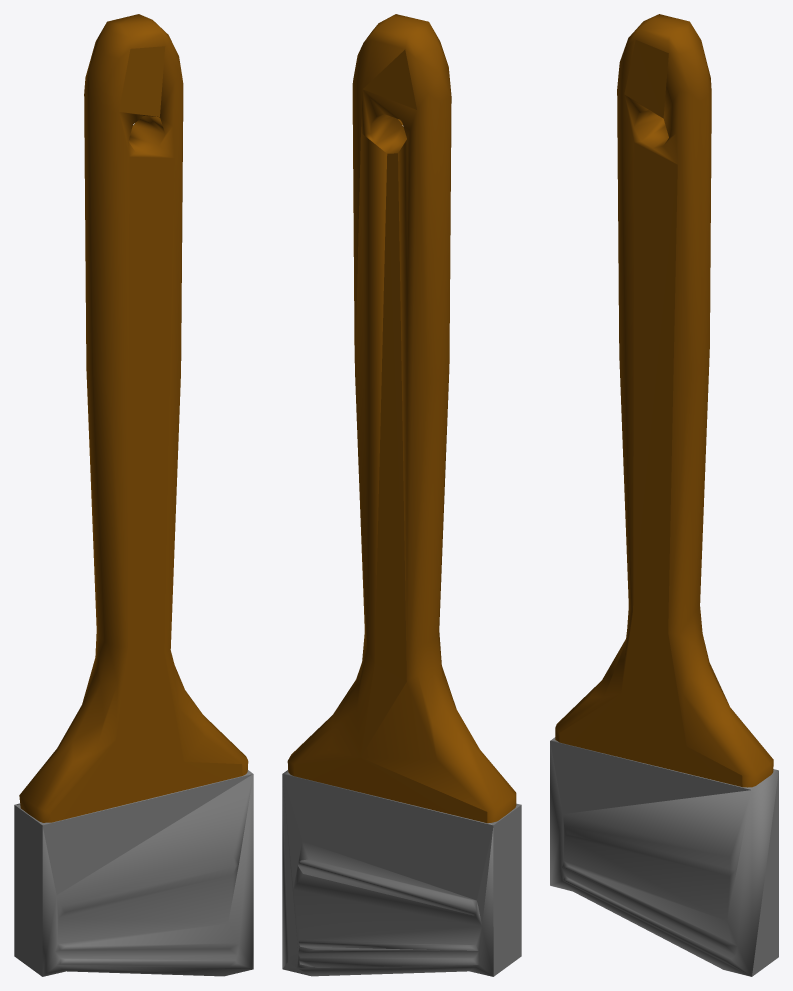
Rendered from COL_Obj_3_Brush_Coll.dae.
3 views of the same model, side by side, from view 1: azimuth 30°, elevation 25°; view 2: azimuth 150°, elevation 25°; view 3: azimuth 330°, elevation 25° (orthographic). The views are drawn at different scales.
Parts seen in each view (by area): view 1: COL_Obj_3_Brush_Coll; view 2: COL_Obj_3_Brush_Coll; view 3: COL_Obj_3_Brush_Coll.
Part boxes in pixels (<box>): COL_Obj_3_Brush_Coll: <box>14,14,253,976</box>; COL_Obj_3_Brush_Coll: <box>282,14,521,976</box>; COL_Obj_3_Brush_Coll: <box>550,14,778,976</box>.
Bounding box in the file's own units: 1.63 × 0.4345 × 7.1.
